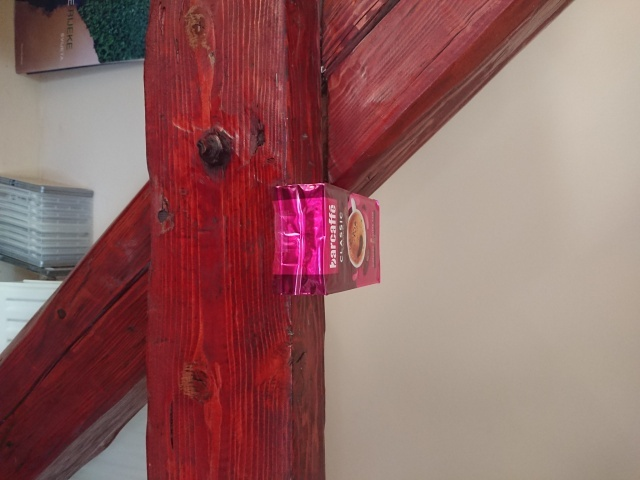Barcaffe Classic Original 225g: (268, 182, 383, 299)
